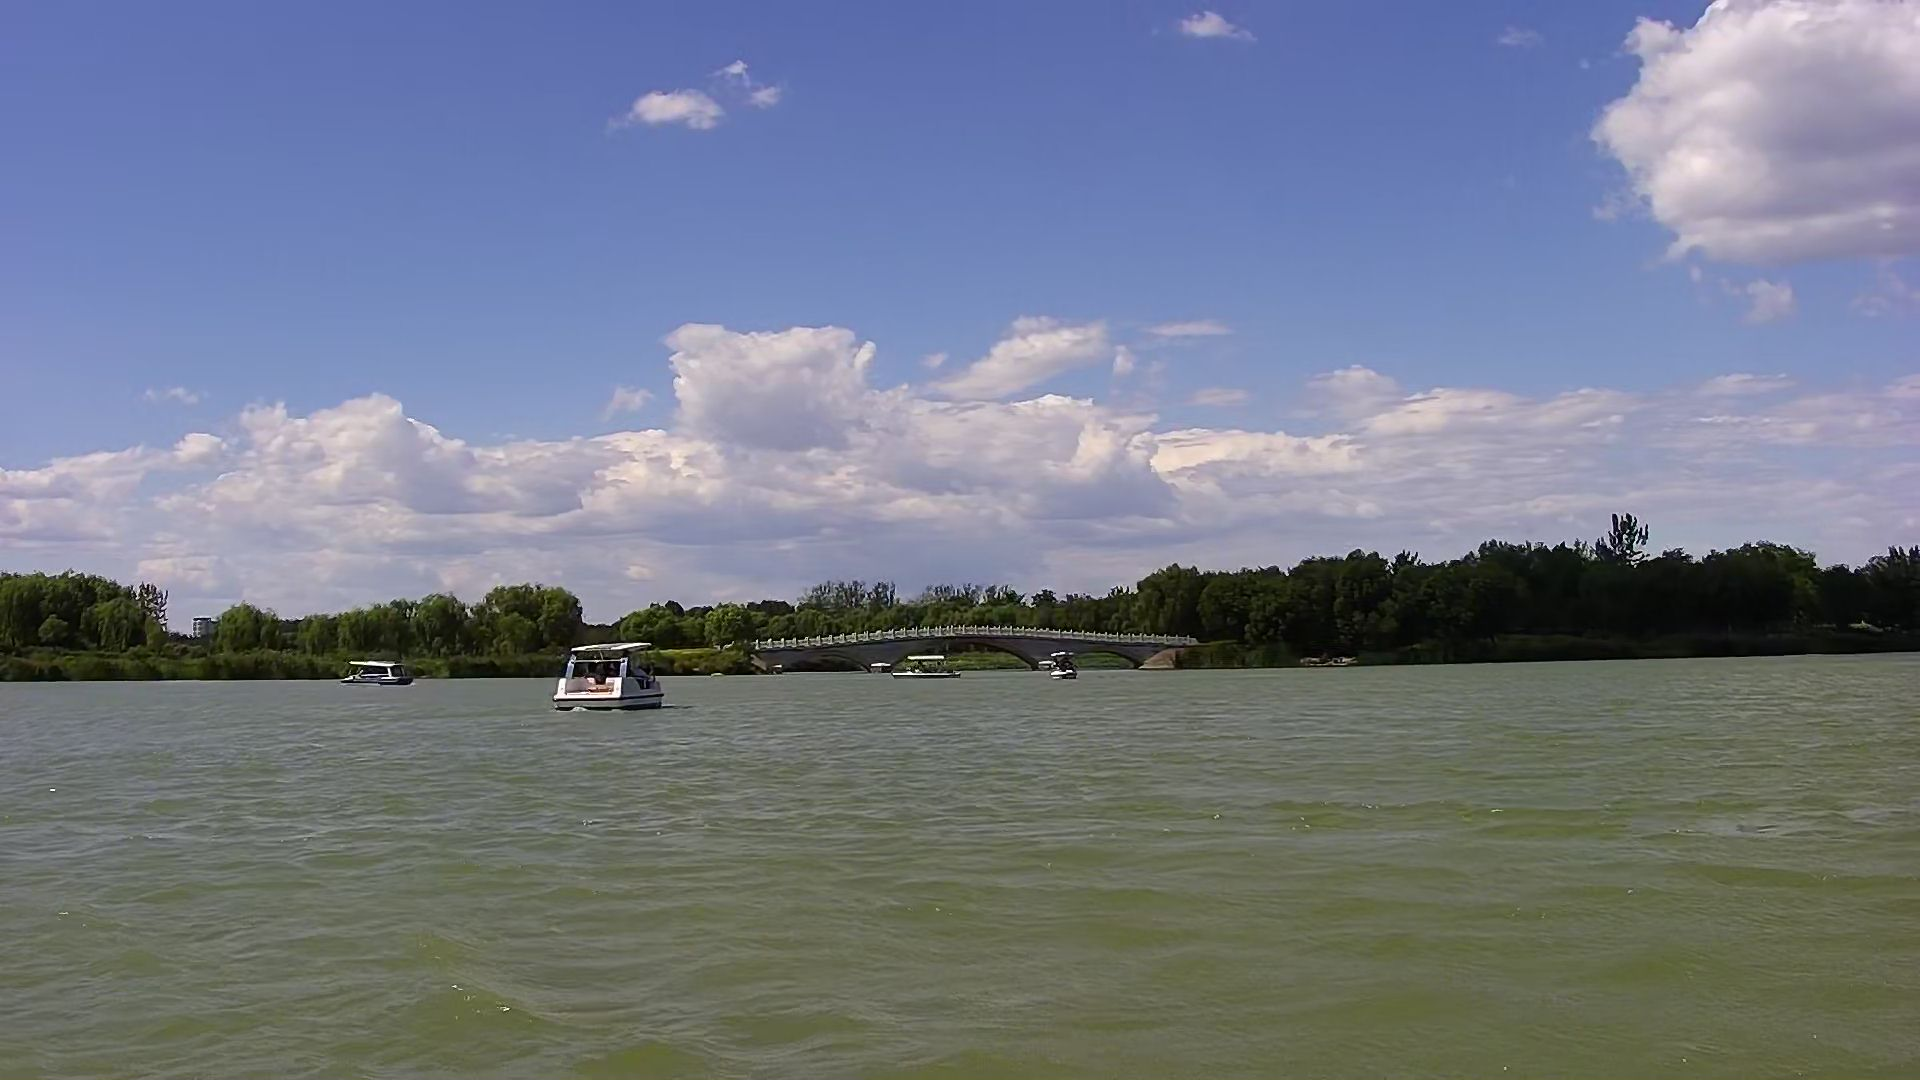boat: (543, 636, 661, 724), (334, 650, 423, 695), (887, 645, 953, 679)
bridge: (771, 621, 1156, 694)
